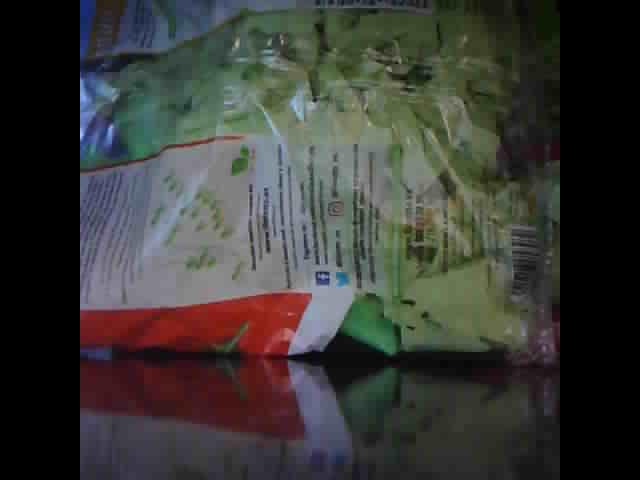florette: (81, 9, 558, 357)
